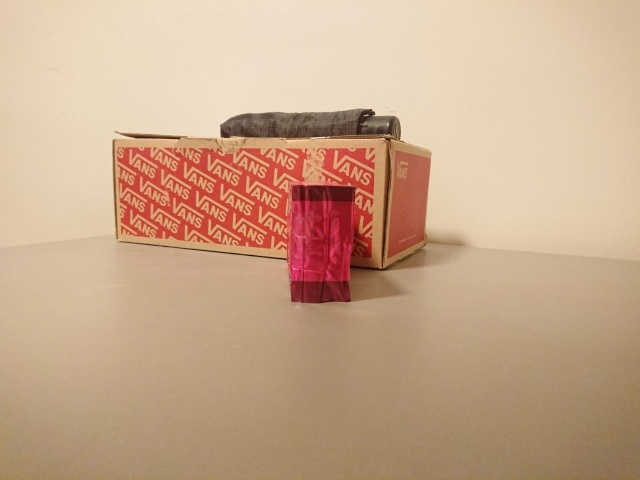Barcaffe Classic Original 225g: (283, 181, 359, 307)
